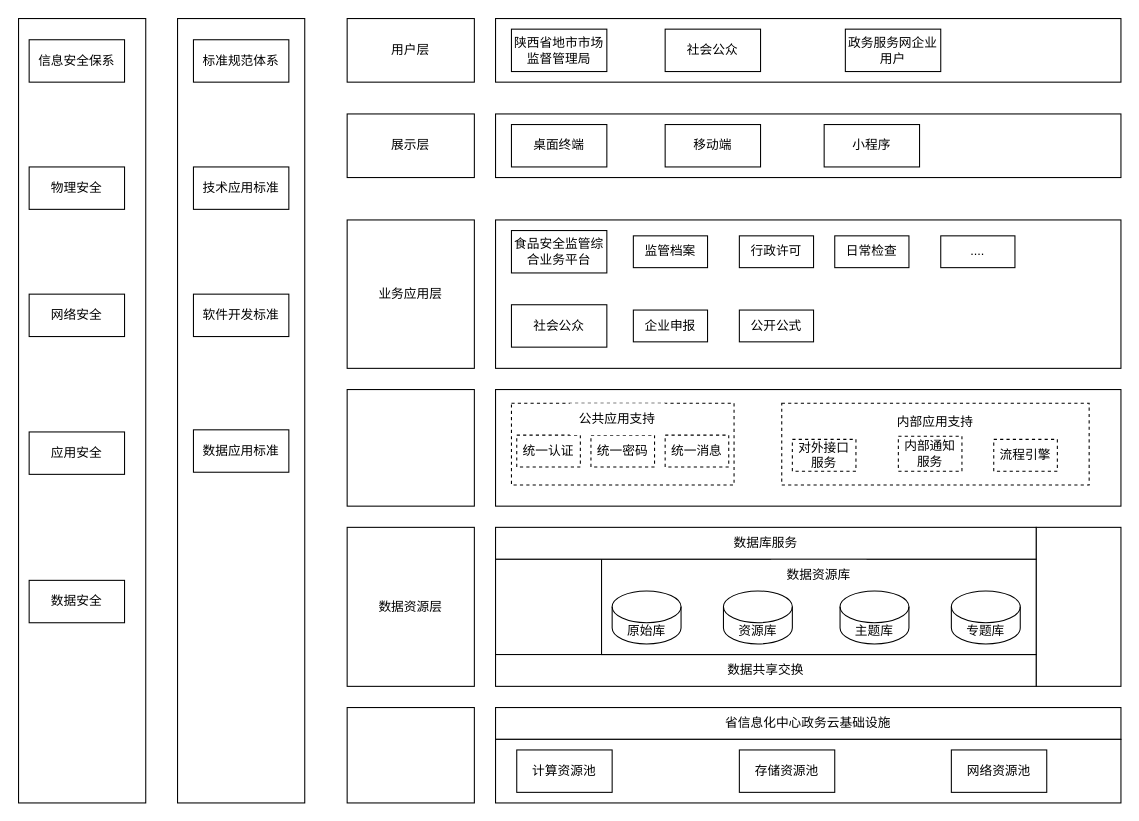
This 1139x821 diagram has some shape labels left out. The centre of each missing label's shape, as x and y in pixels:
"基础设置" goes at point (410, 754).
"应用支持" goes at point (410, 447).
"数据处理" goes at point (548, 606).
"数据库管理" goes at point (1078, 606).
